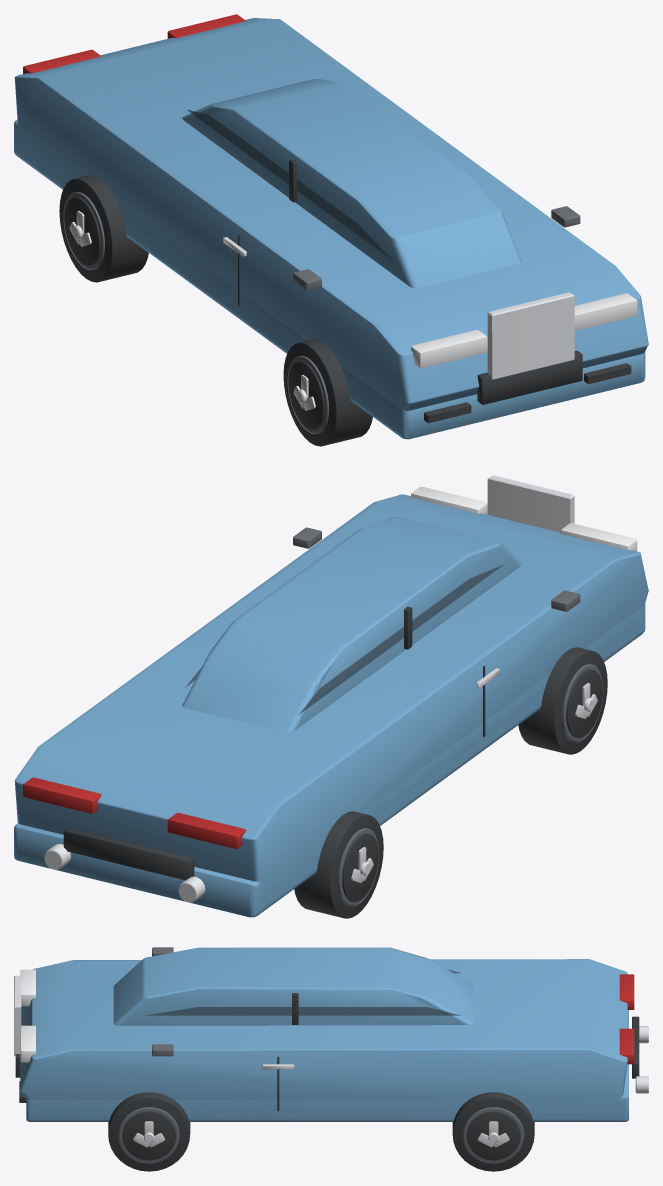
Rendered from regent-classic.glb.
3 renders of one model, top to bottom at view 1: azimuth 30°, elevation 25°; view 2: azimuth 150°, elevation 25°; view 3: azimuth 270°, elevation 25°, orthographic. The views are drawn at different scales.
Visible parts, largest first — view 1: paint, trim, rim, head, accent, glass, tail; view 2: paint, trim, rim, tail, accent, glass, head; view 3: paint, trim, glass, rim, accent, head, tail.
Part boxes in pixels (left/top/right/bottom): paint: left=14, top=18, right=648, bottom=439; trim: left=59, top=159, right=631, bottom=446; rim: left=69, top=211, right=574, bottom=410; head: left=411, top=293, right=637, bottom=368; accent: left=63, top=191, right=580, bottom=434; glass: left=187, top=110, right=391, bottom=259; tail: left=23, top=14, right=245, bottom=73; paint: left=14, top=494, right=648, bottom=917; trim: left=63, top=606, right=607, bottom=918; rim: left=44, top=475, right=597, bottom=902; tail: left=23, top=777, right=246, bottom=848; accent: left=293, top=527, right=603, bottom=906; glass: left=185, top=565, right=502, bottom=714; head: left=411, top=486, right=637, bottom=551; paint: left=20, top=947, right=628, bottom=1121; trim: left=15, top=993, right=639, bottom=1171; glass: left=145, top=970, right=461, bottom=1015; rim: left=14, top=975, right=648, bottom=1147; accent: left=118, top=947, right=524, bottom=1163; head: left=20, top=969, right=35, bottom=1062; tail: left=619, top=974, right=634, bottom=1064.
Size of the model in its own units: 2.14 by 1.4 by 5.26.
